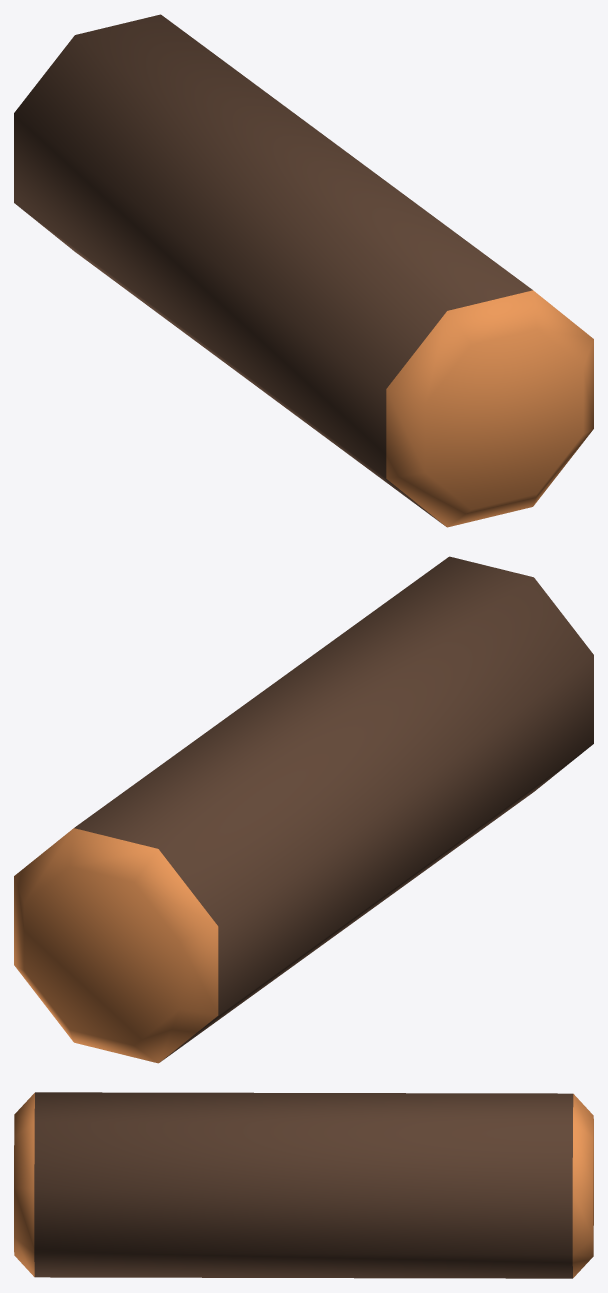
The model's file is Log.fbx.
3 views of the same model, one above another, from view 1: azimuth 30°, elevation 25°; view 2: azimuth 150°, elevation 25°; view 3: azimuth 270°, elevation 25° (orthographic). The views are drawn at different scales.
Visible parts, largest first — view 1: Cylinder.197; view 2: Cylinder.197; view 3: Cylinder.197.
Part boxes in pixels (x1,y1,x2,y2): Cylinder.197: (14,14,593,527); Cylinder.197: (14,556,593,1063); Cylinder.197: (14,1092,593,1278).
Size of the model in its own units: 14.67 by 14.44 by 48.9.
